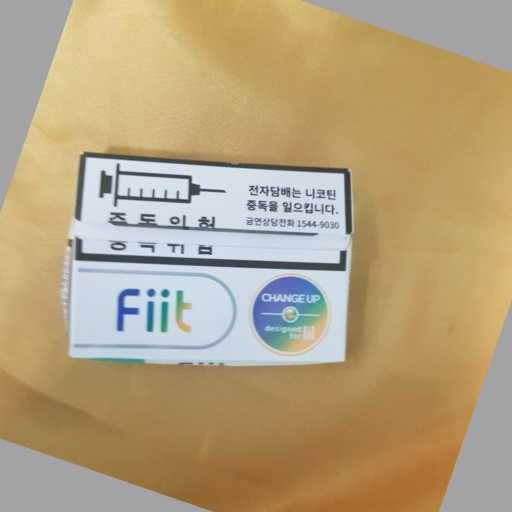Paper_0: (57, 143, 358, 382)
